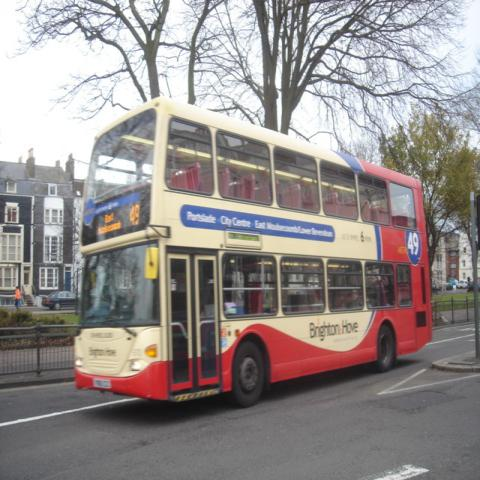bus: (73, 99, 434, 408)
car: (41, 291, 79, 310), (458, 280, 468, 288)
